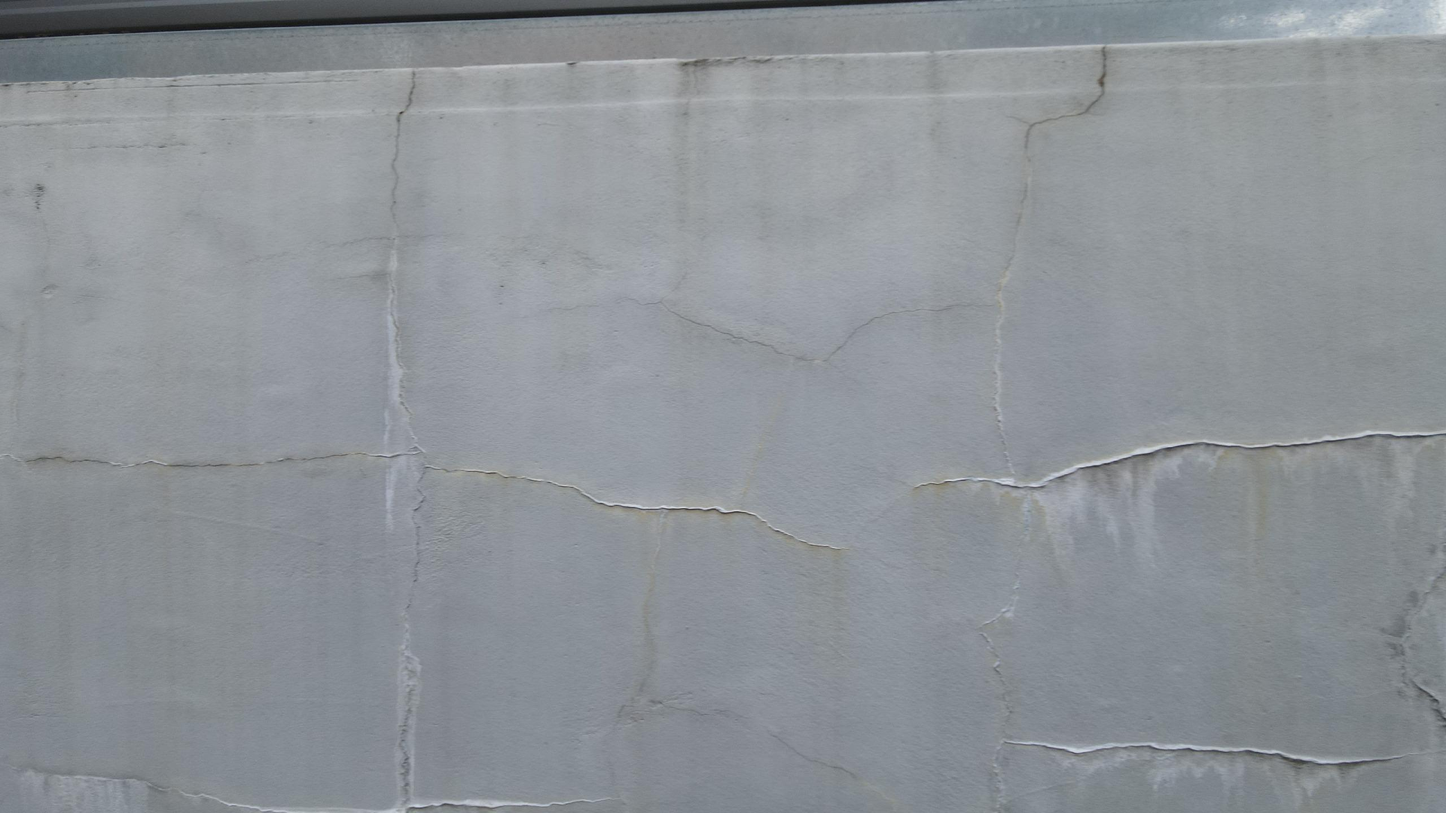crack: (15, 78, 831, 799), (955, 424, 1438, 492), (1011, 731, 1399, 774)
